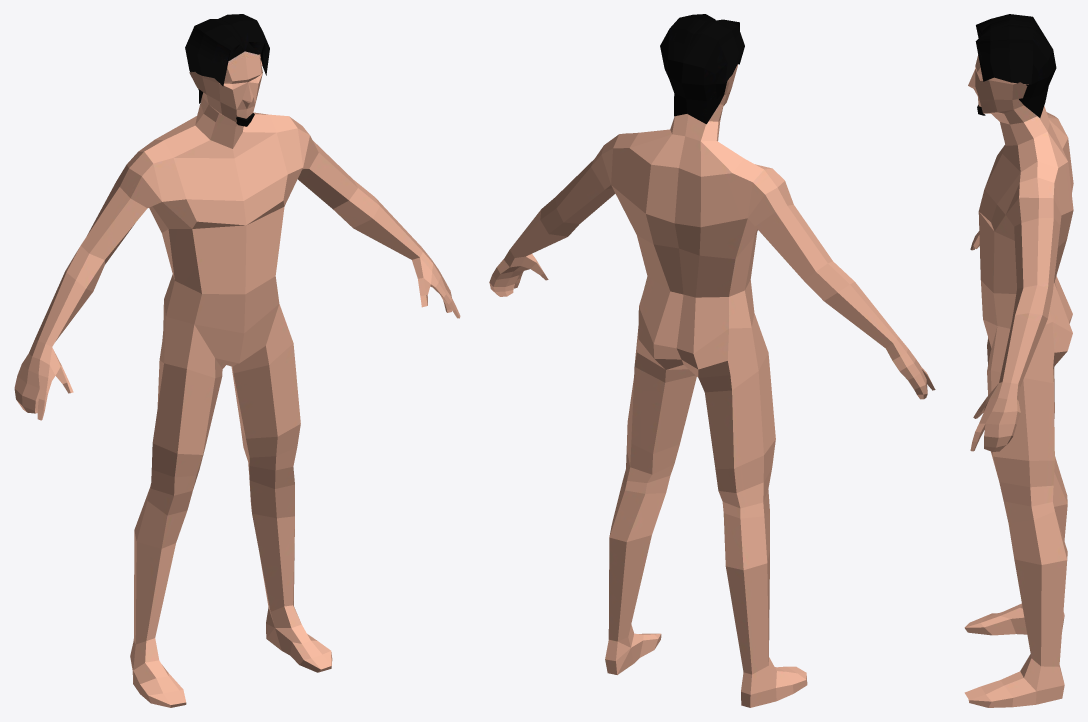
3 renders of one model, left to right at view 1: azimuth 30°, elevation 25°; view 2: azimuth 150°, elevation 25°; view 3: azimuth 270°, elevation 25°, orthographic.
Parts seen in each view (by area): view 1: raj_base; view 2: raj_base; view 3: raj_base.
Part boxes in pixels (<box>): raj_base: <box>14,14,460,707</box>; raj_base: <box>489,14,935,707</box>; raj_base: <box>964,14,1073,707</box>.
Size of the model in its own units: 15.34 by 22.05 by 3.4.
Materials: 1 (1 with a texture image).
